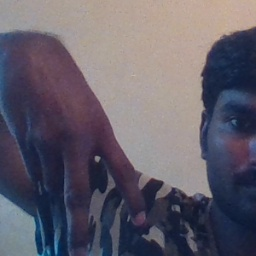Y: (11, 61, 151, 254)
